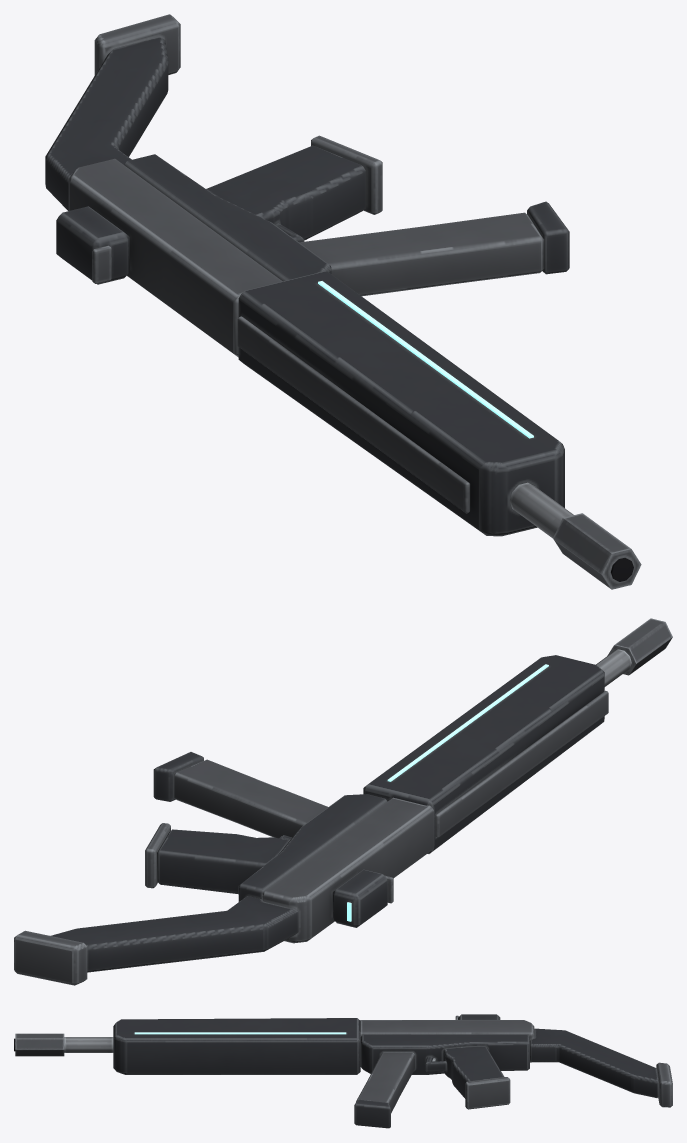
File: pickup_rifle.glb
The picture shows the model from 3 angles, top to bottom: view 1: azimuth 30°, elevation 25°; view 2: azimuth 150°, elevation 25°; view 3: azimuth 270°, elevation 25°; orthographic projection. The views are drawn at different scales.
Visible parts, largest first — view 1: pickup_rifle; view 2: pickup_rifle; view 3: pickup_rifle.
Boxes of the visible parts, x1=… form: pickup_rifle: x1=45, y1=14, x2=641, y2=589; pickup_rifle: x1=14, y1=618, x2=672, y2=985; pickup_rifle: x1=14, y1=1014, x2=672, y2=1128.
Bounding box in the file's own units: 0.2646 × 0.0503 × 0.7783.
Materials: 2 (1 with a texture image).
